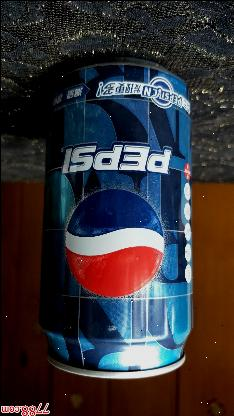Can: (39, 57, 192, 378)
